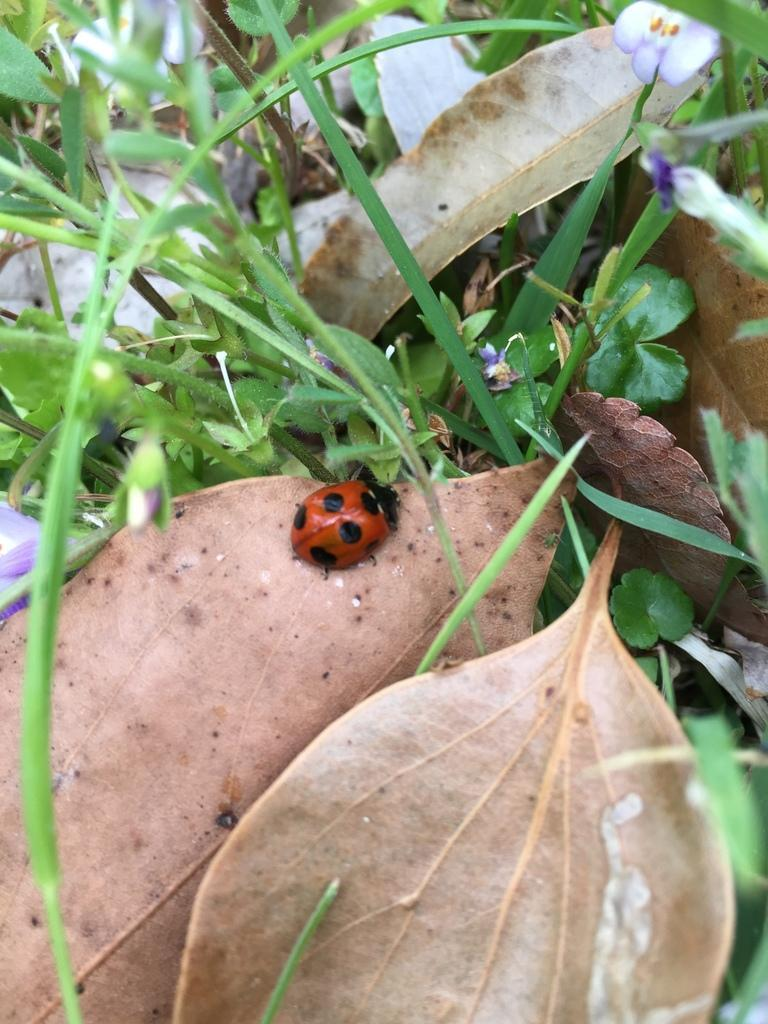ladybug: (288, 471, 414, 583)
